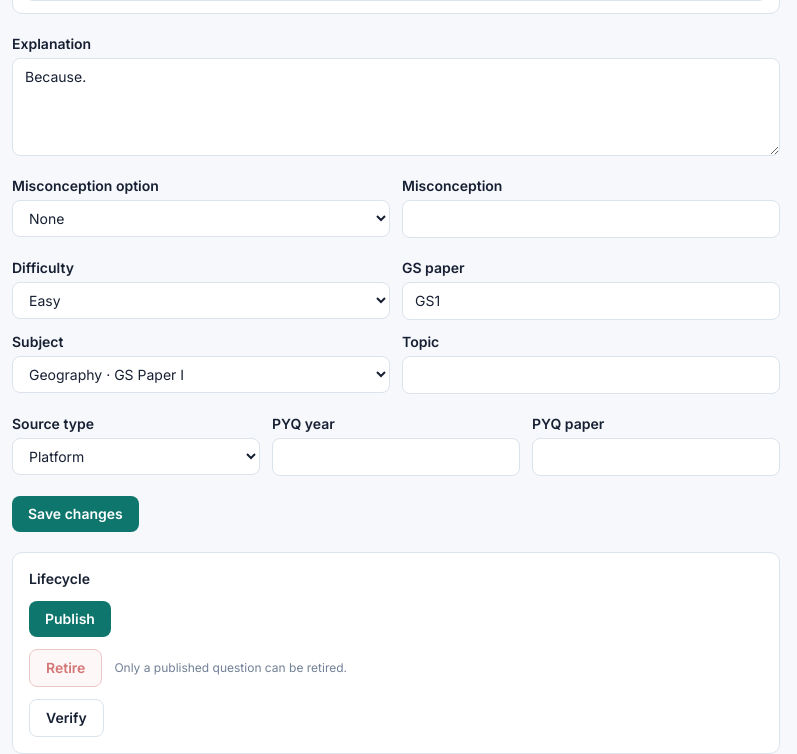
QuestionForm saving edits › sends no request when nothing changed
This screenshot has width=797, height=754.
(page scrolled)
Step 1. Click the button "Save changes" → click(75, 514), box top-left (12, 496), bottom-right (139, 532)
(page scrolled)
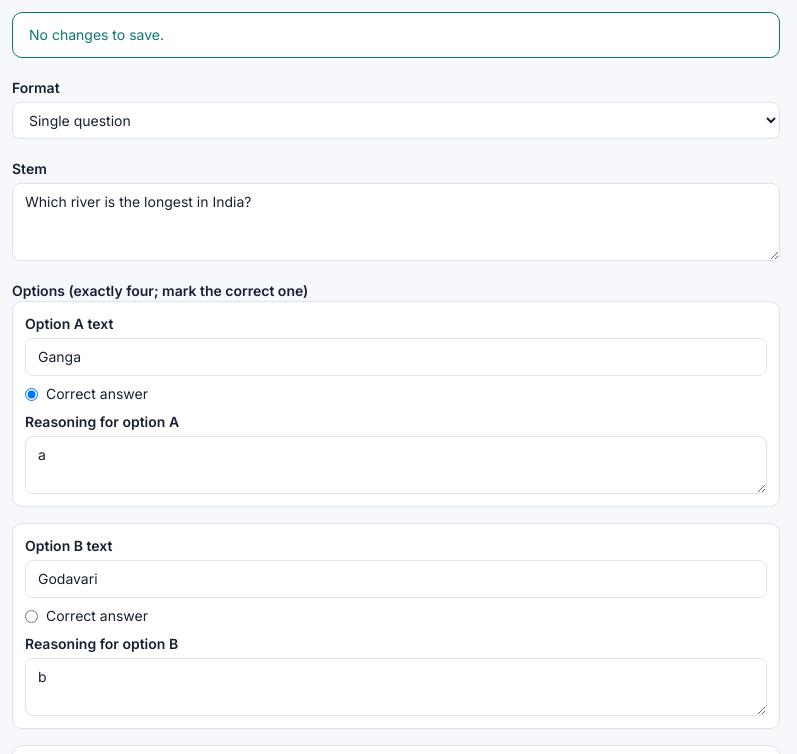
Check: the text "No changes to save." is shown, box top-left (12, 12), bottom-right (780, 58)
